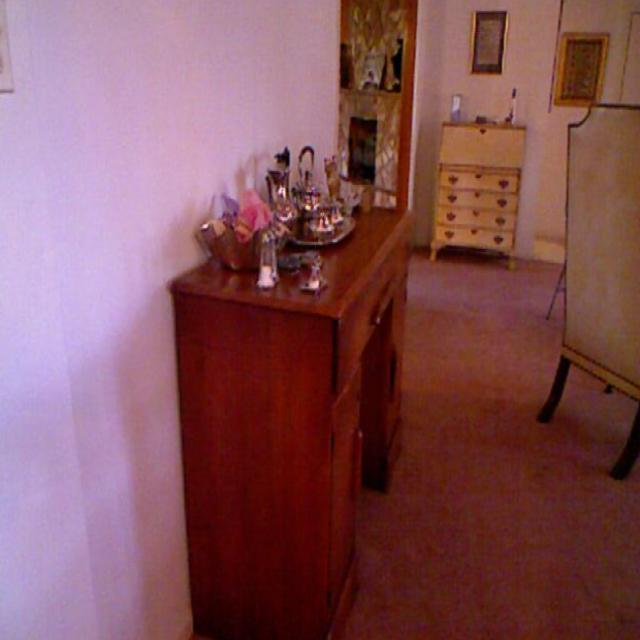beside table: (206, 191, 448, 624), (419, 99, 528, 302)
